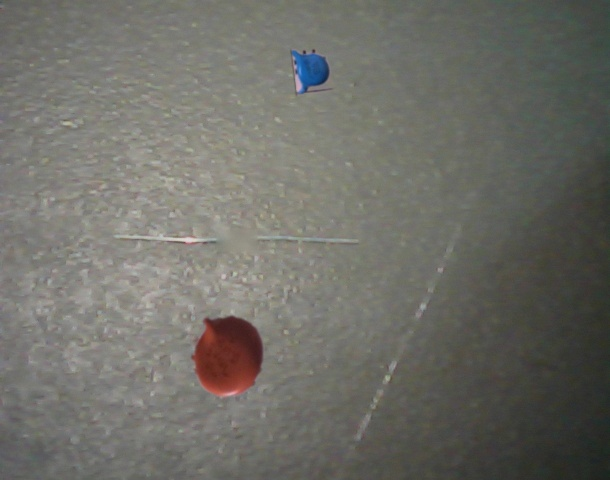capacitor: (191, 316, 264, 397), (292, 49, 332, 96)
